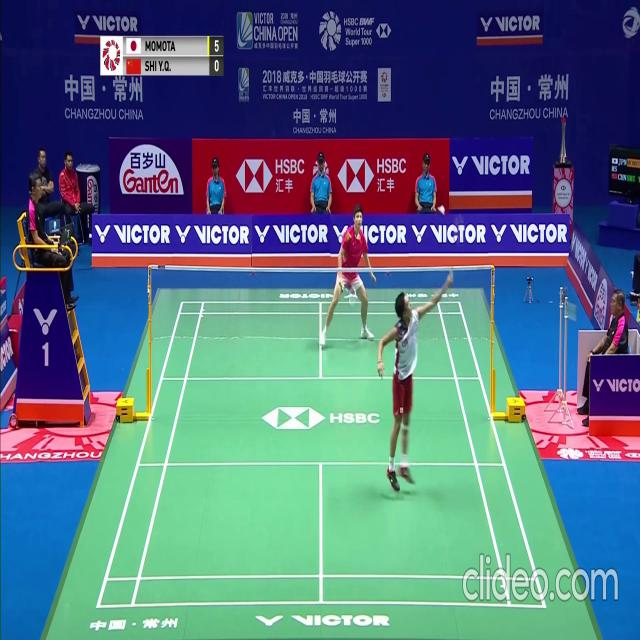Shuttlecock: (435, 205, 440, 213)
